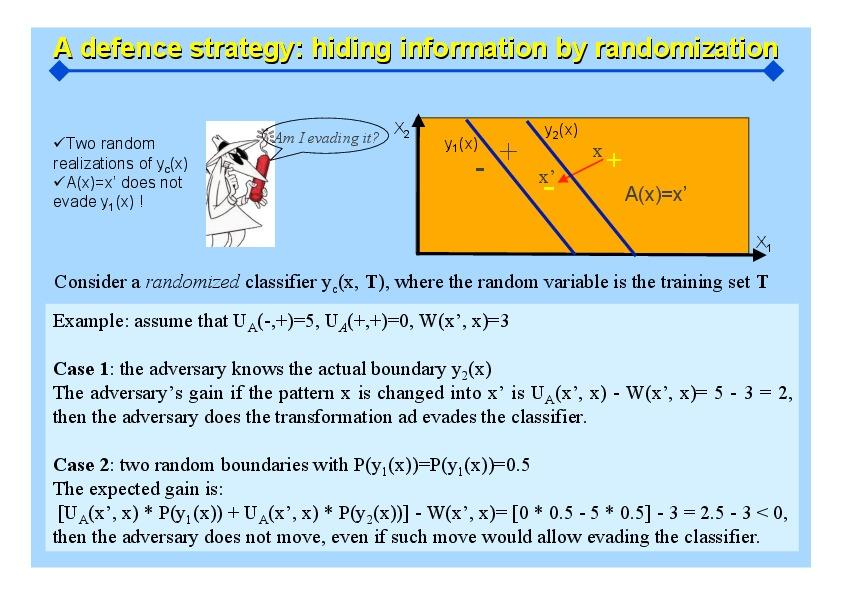paragraph: (45, 97, 810, 566)
title: (48, 29, 783, 69)
